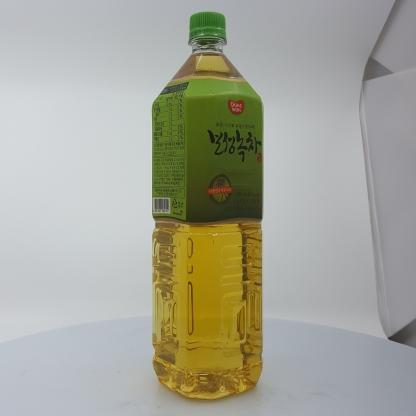------1500ML: (151, 11, 264, 400)
